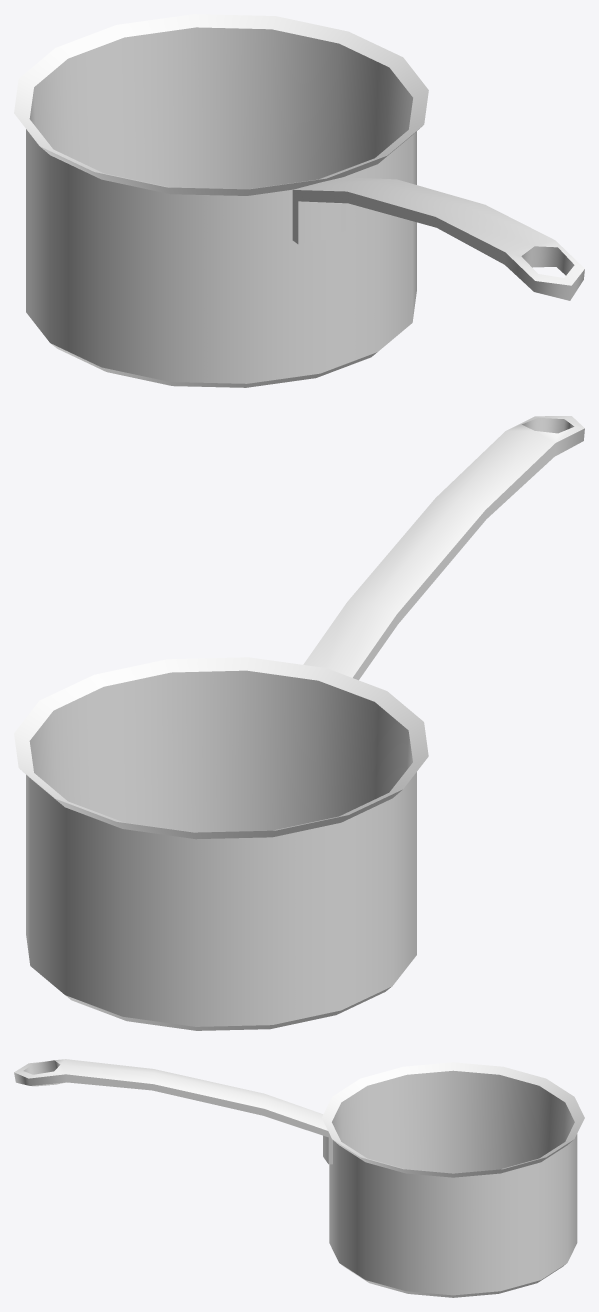
The model's file is Product_pan03.FBX.
3 views of the same model, one above another, from view 1: azimuth 30°, elevation 25°; view 2: azimuth 150°, elevation 25°; view 3: azimuth 270°, elevation 25° (orthographic). The views are drawn at different scales.
Parts seen in each view (by area): view 1: product_pan03_LOD00; view 2: product_pan03_LOD00; view 3: product_pan03_LOD00.
Boxes of the visible parts, x1=… form: product_pan03_LOD00: x1=14, y1=14, x2=584, y2=387; product_pan03_LOD00: x1=14, y1=416, x2=584, y2=1030; product_pan03_LOD00: x1=14, y1=1059, x2=584, y2=1297.
Size of what is drawn, in the model's own units: 0.1472 by 0.1128 by 0.3191.
